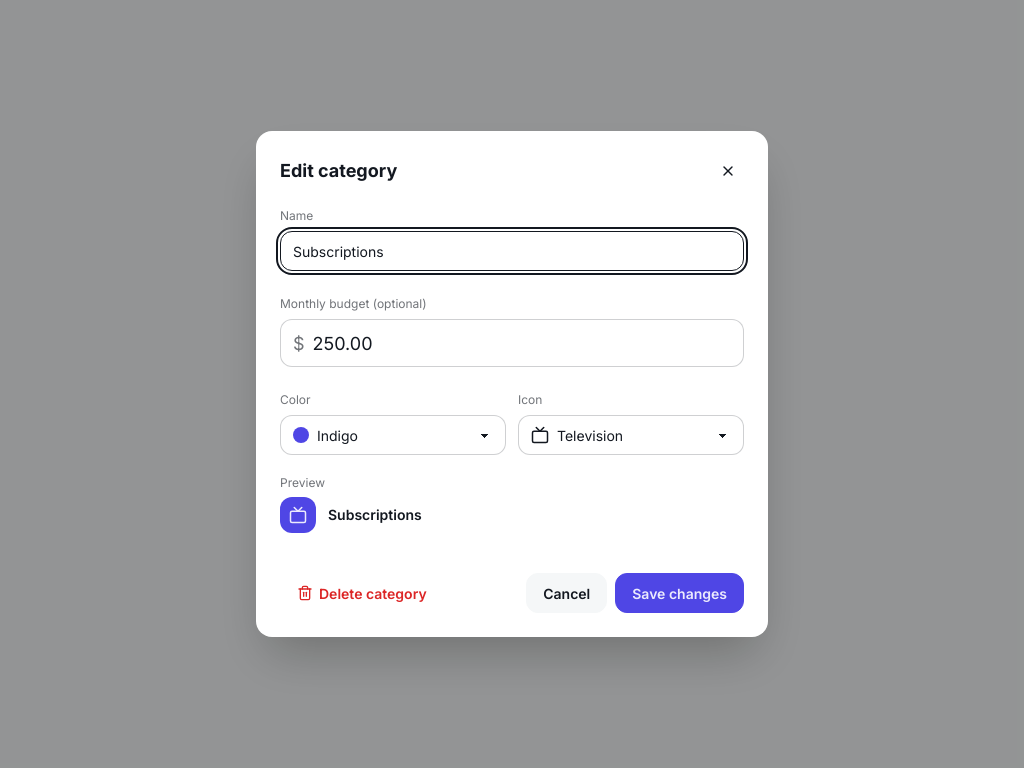
Scenario: the cap-anchor question › offers the periods by the backend’s own labels
The width and height of the screenshot is (1024, 768).
Replace the text in the field labelled "Monthly budget (optional)" with "300" at (522, 343), box [313, 320, 731, 366]
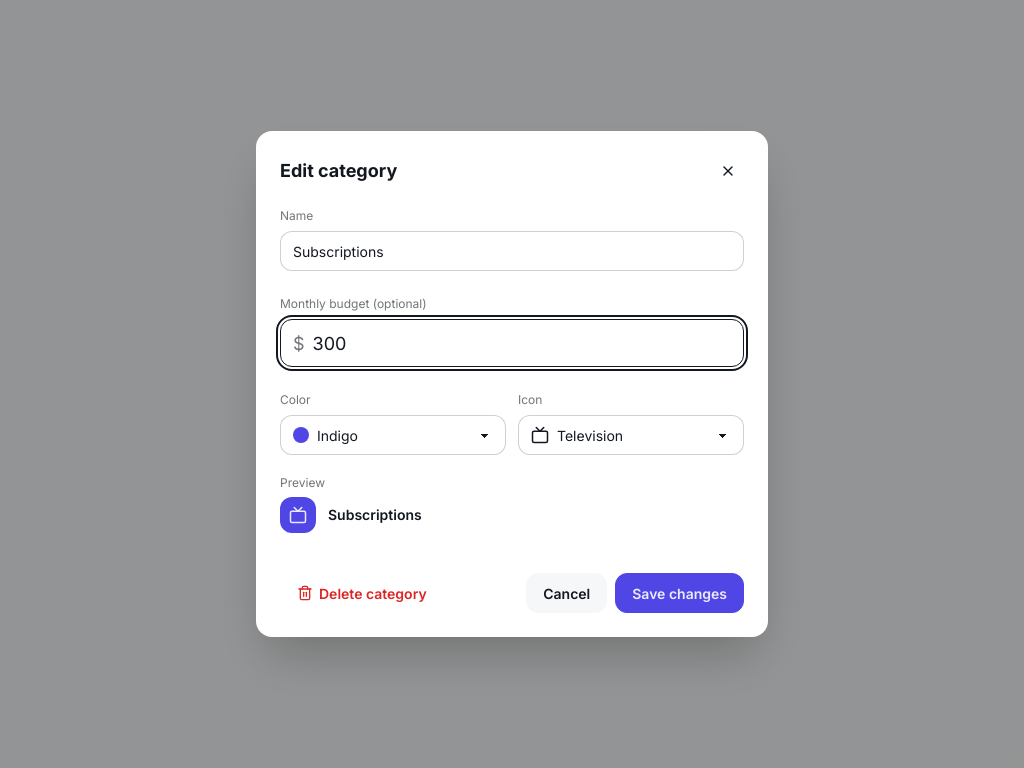
Click the button "Save changes".
click(680, 593)  # box [615, 573, 744, 613]
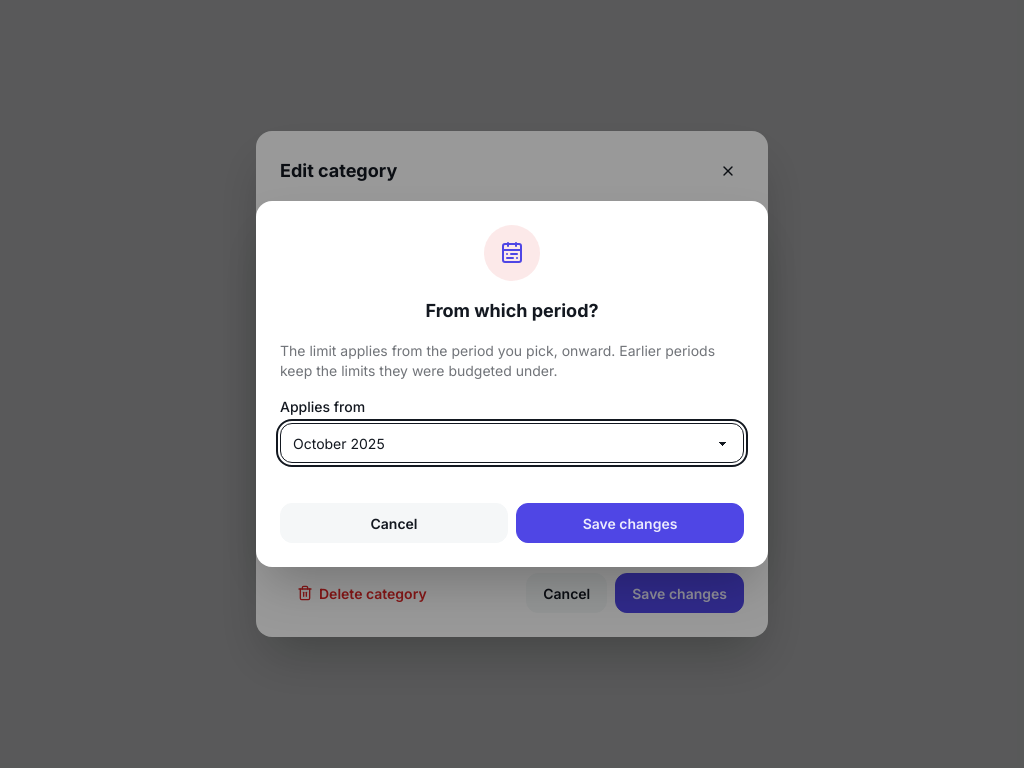
Result: the dropdown labelled "Applies from" shows "October 2025" at [280, 423, 744, 463]
